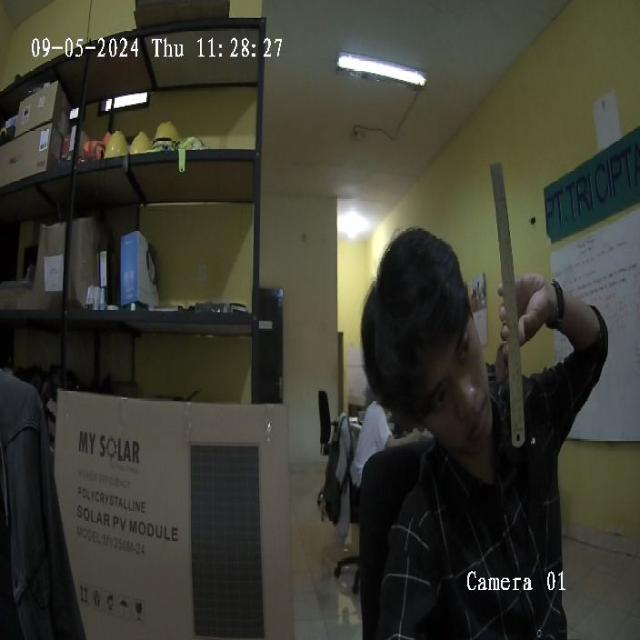Ruler: (492, 163, 525, 447)
